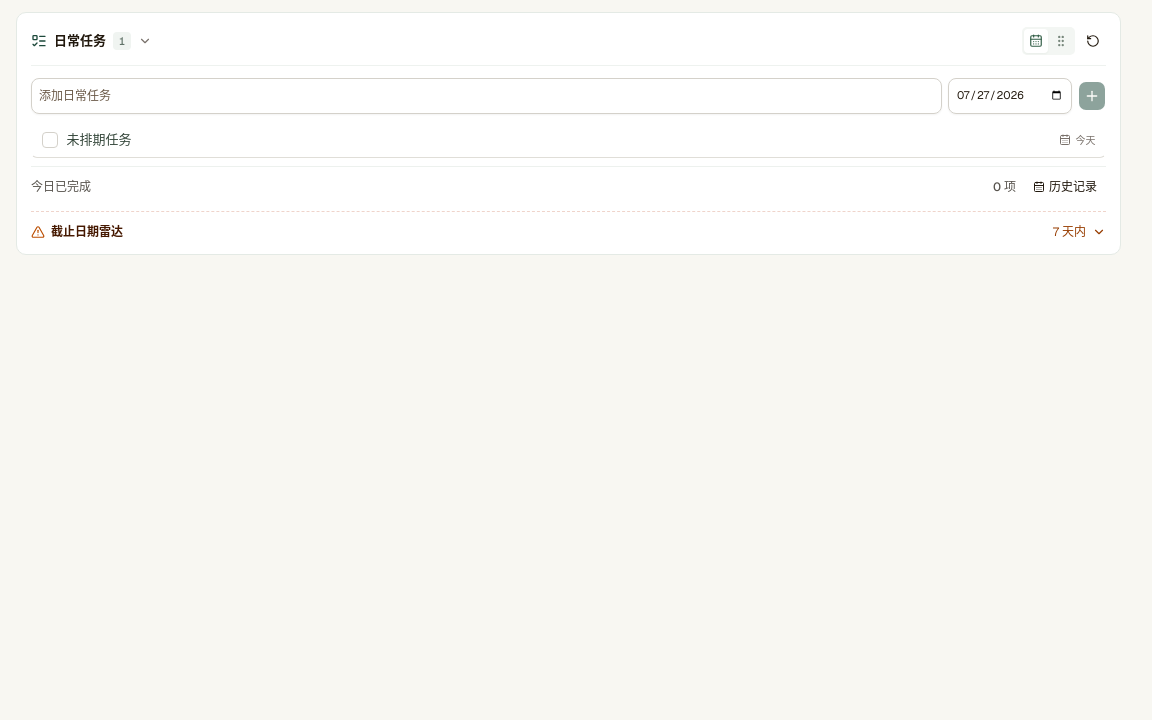
Test: DailyTaskPanel completion archive › opens the scheduling dialog from an unscheduled task context menu
expect the text "未排期任务" is shown: met, box [66,131,131,148]
Right-click the text "未排期任务" at (568, 140), box [31,122,1106,158]
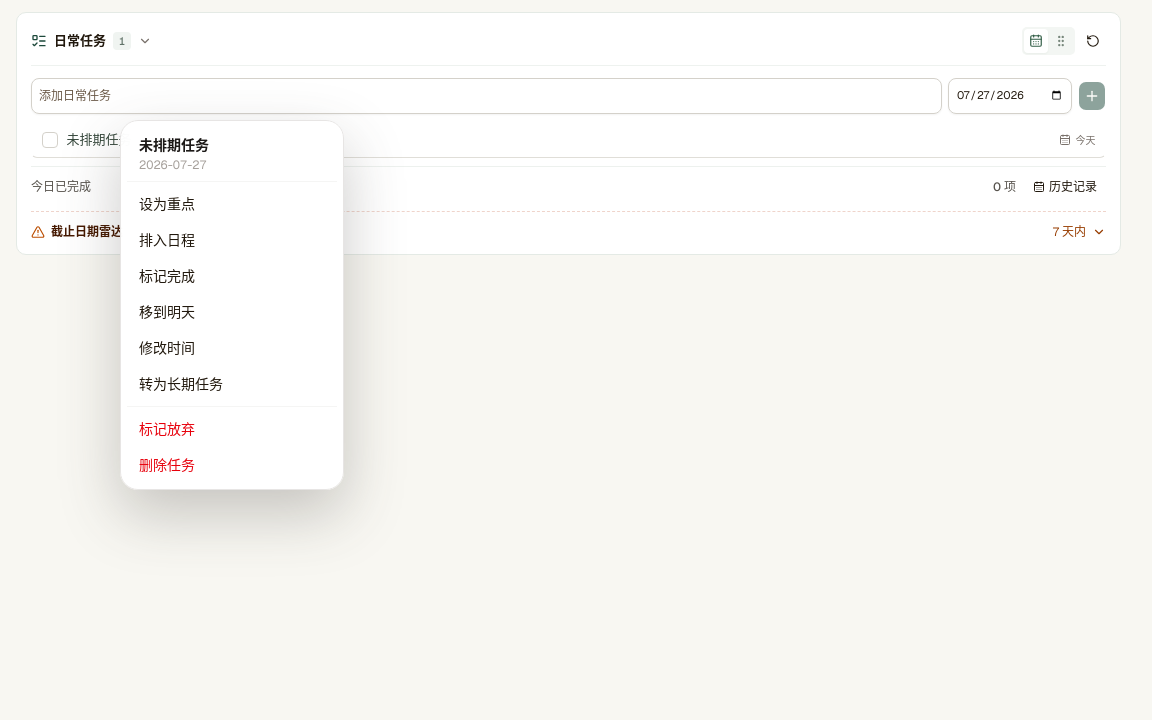
Click the menu item "排入日程" at (232, 240), box [127,222,337,258]
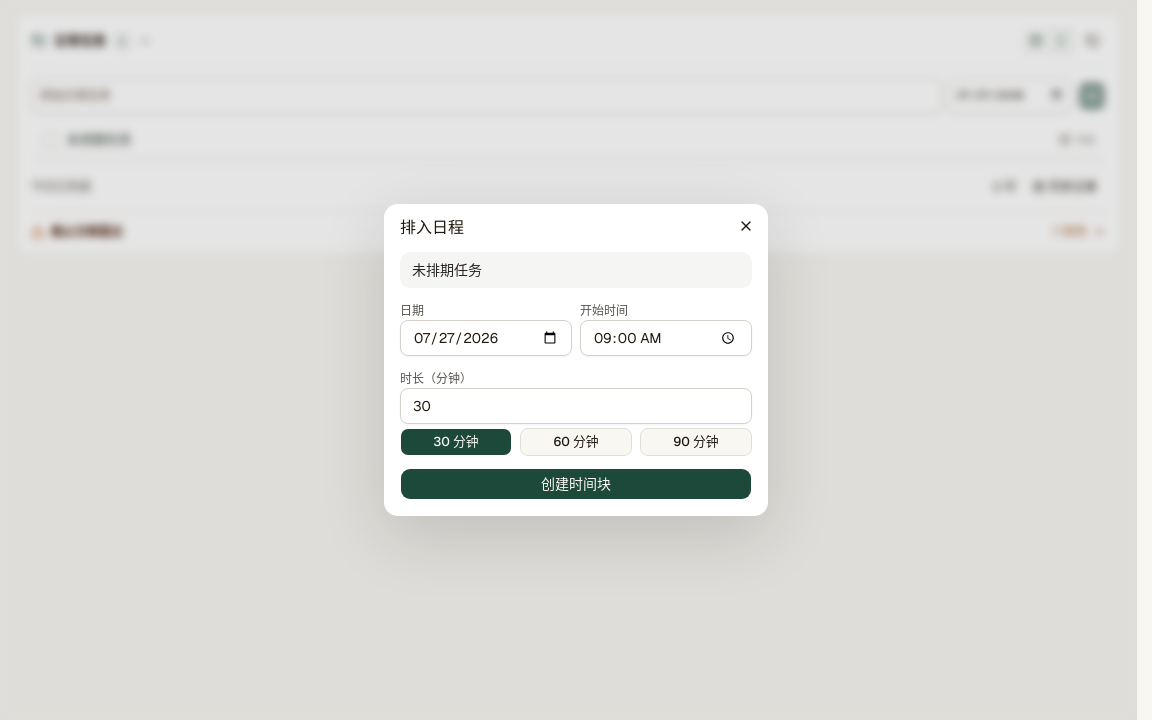
expect the dialog "排入日程" is shown: met, box [384,204,768,516]
